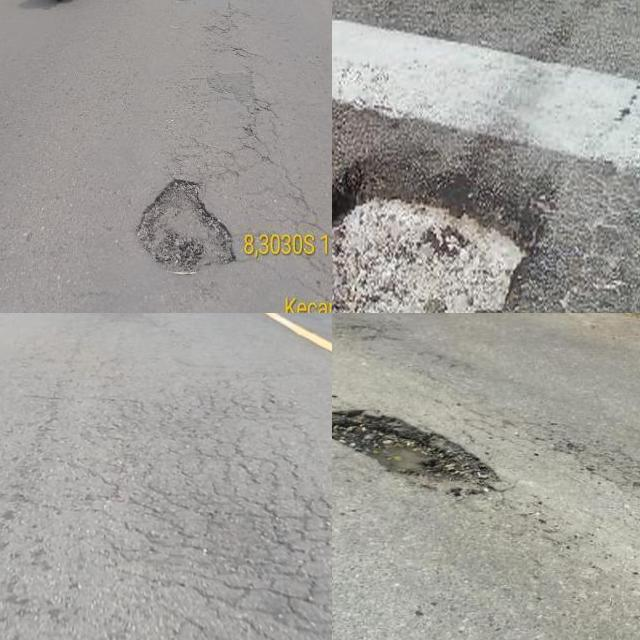Lubang: (332, 165, 562, 313), (332, 406, 498, 493), (139, 182, 236, 269)
Retak Buaya: (82, 380, 332, 640)
